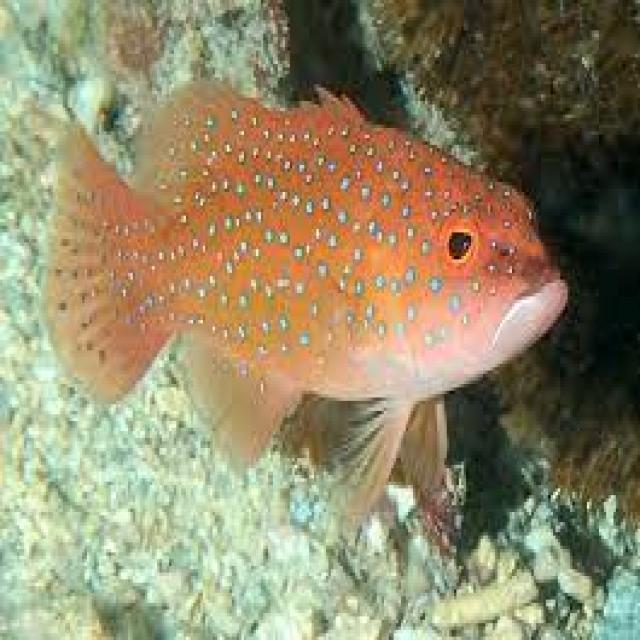Plectropomus-leopardus: (19, 76, 581, 534)
